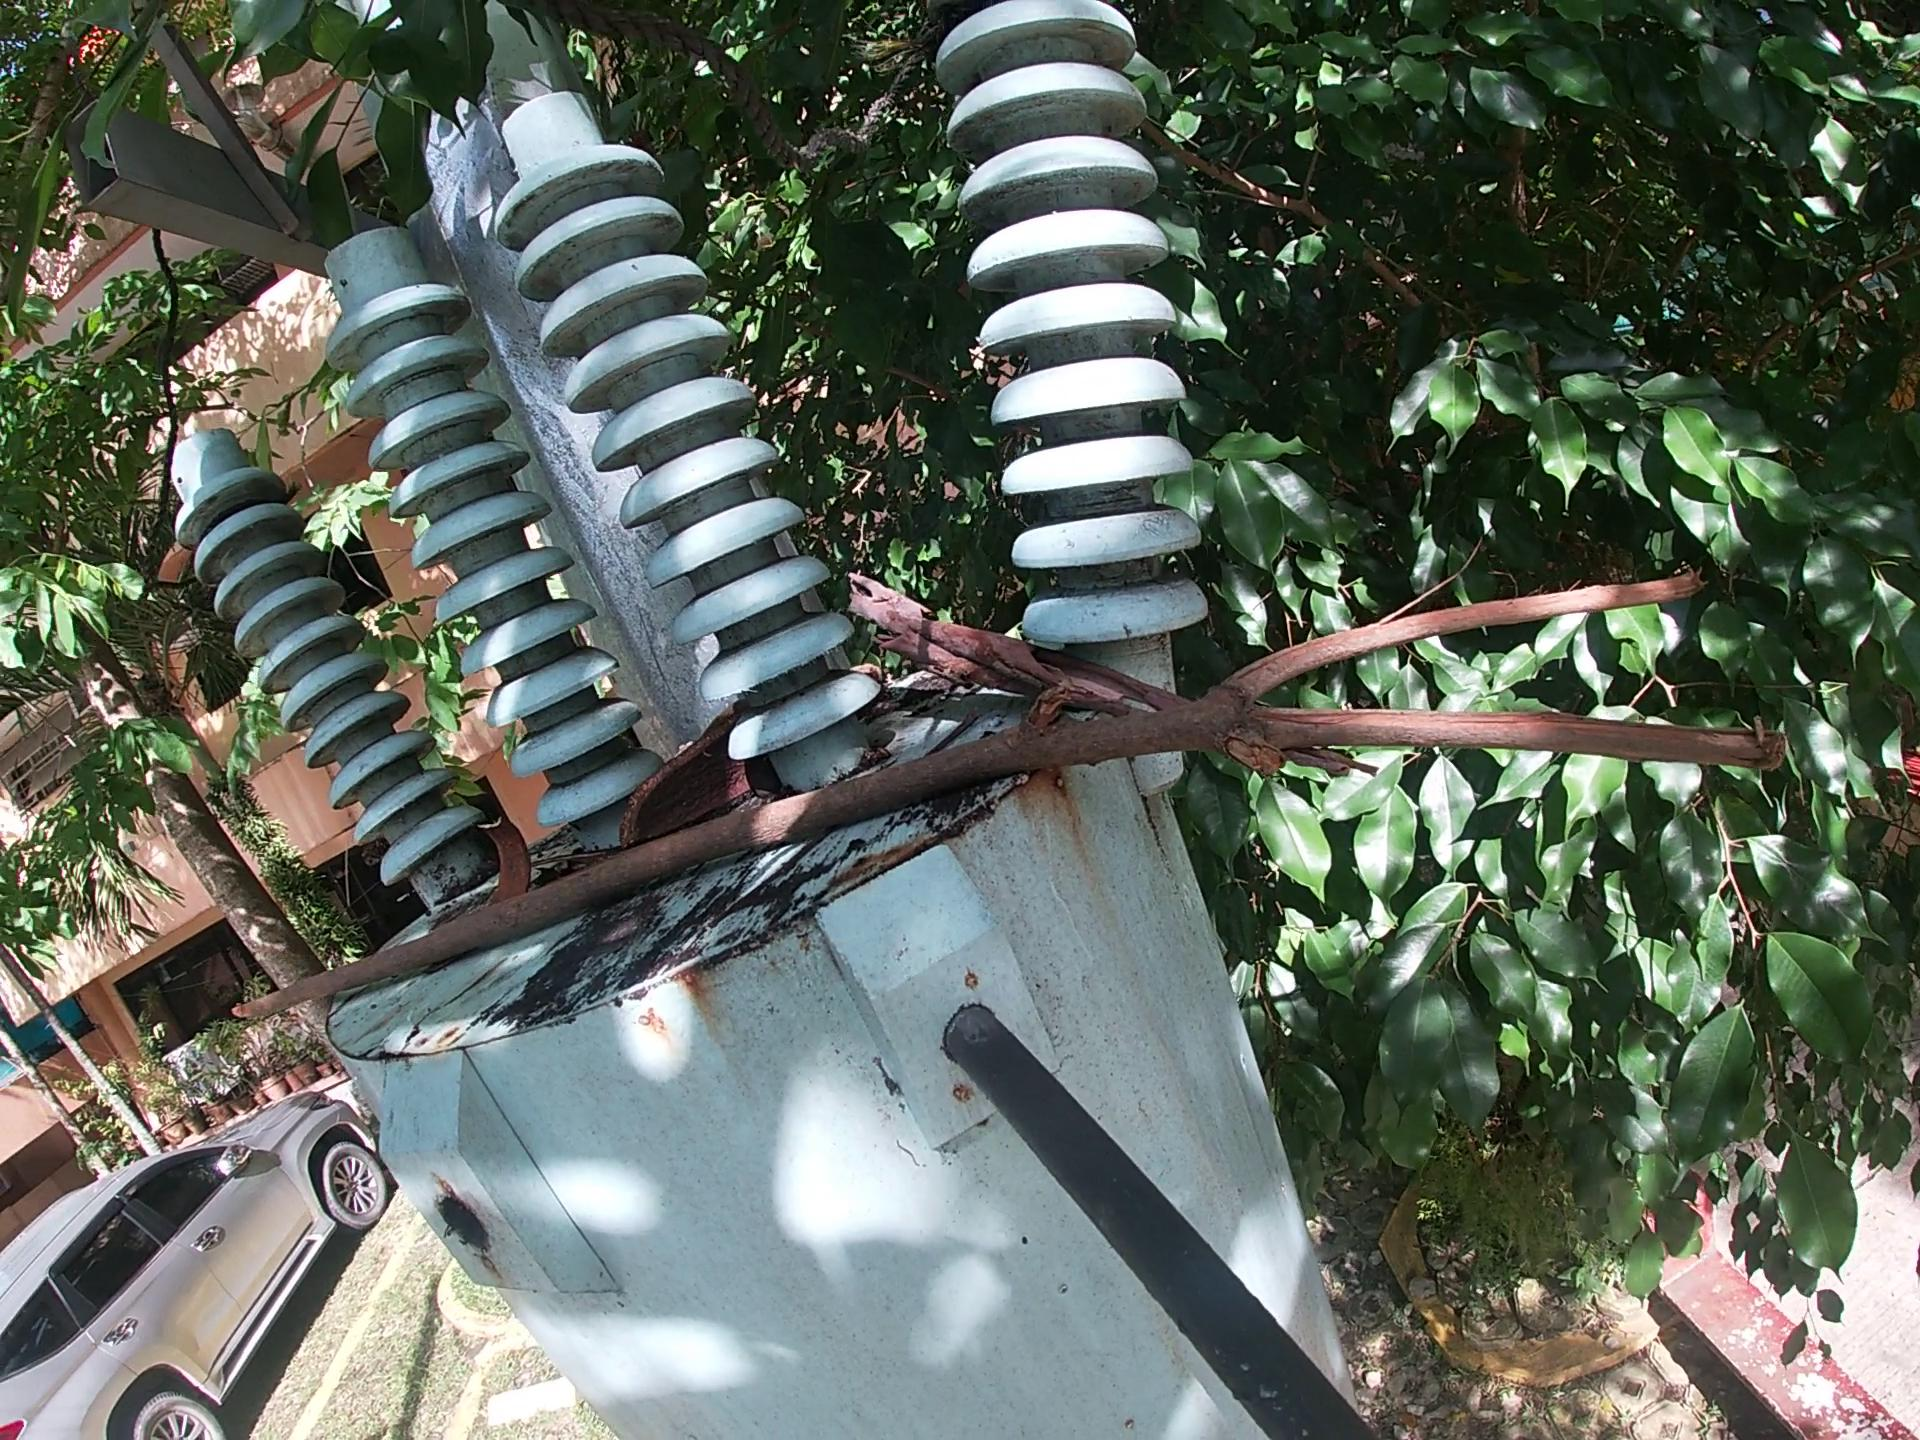mahogany fruit: (614, 700, 760, 858), (469, 811, 540, 915)
tree branch: (221, 555, 1795, 1038), (839, 561, 1389, 782)
